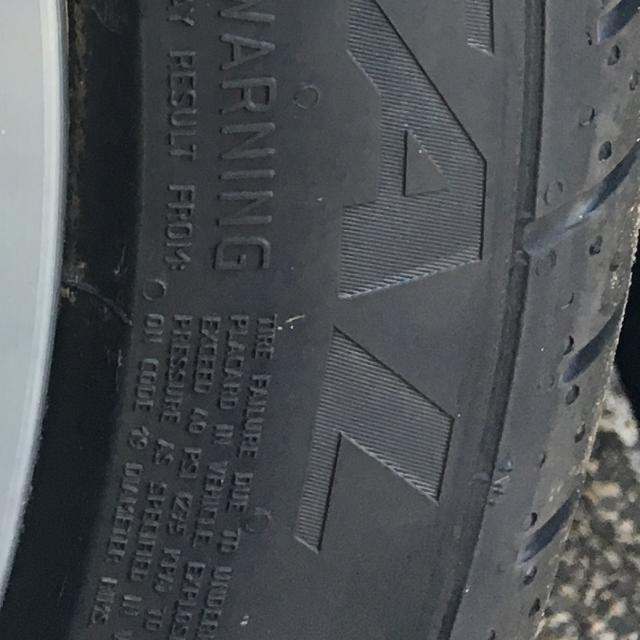Non-defective: (112, 0, 541, 640)
